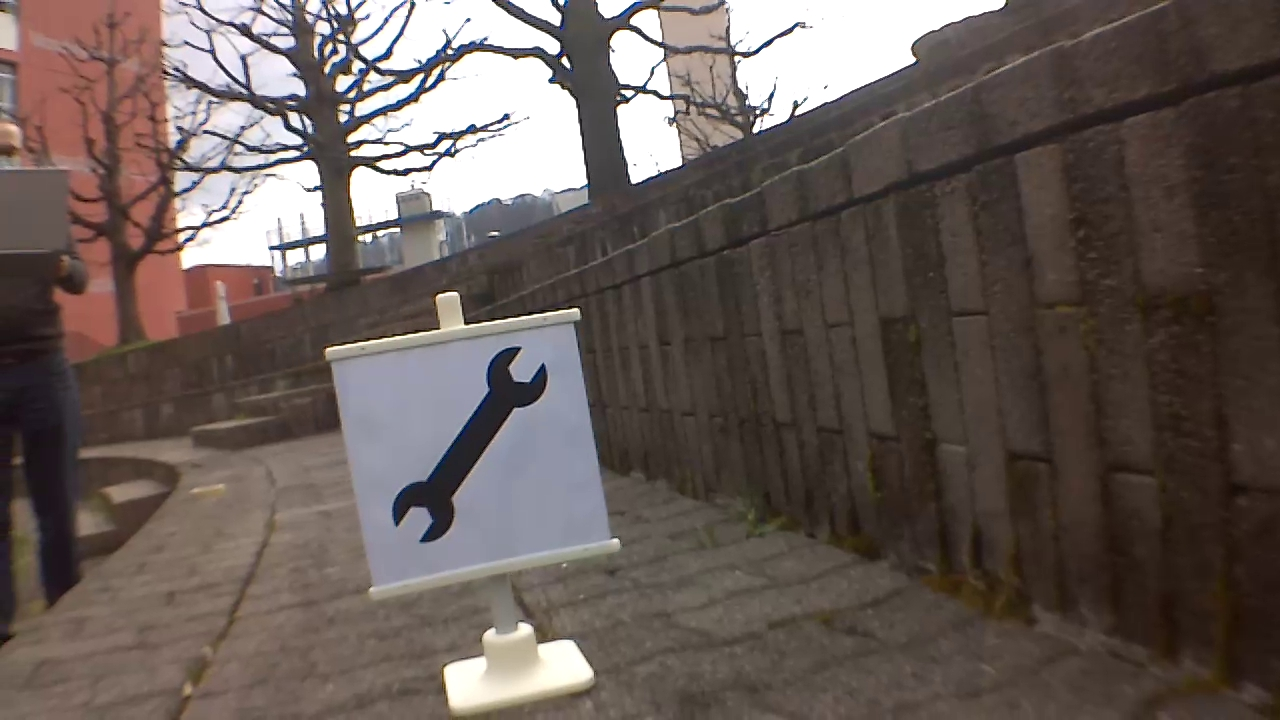wrench: (390, 344, 553, 545)
